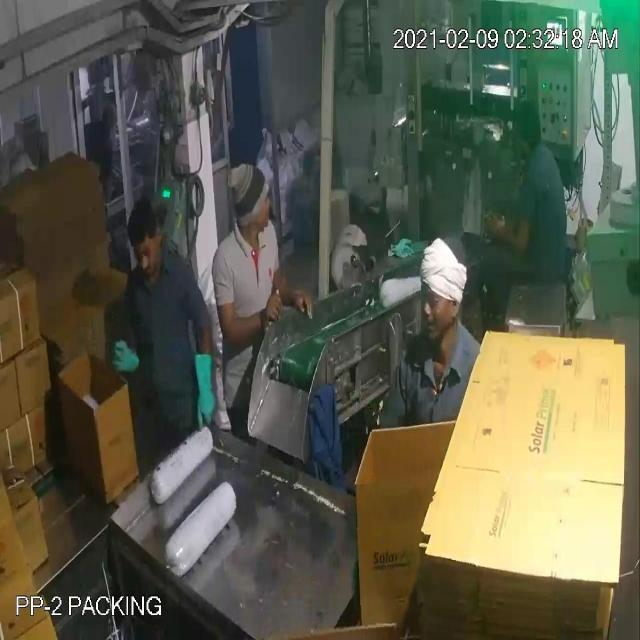Gloves: (41, 57, 507, 387)
